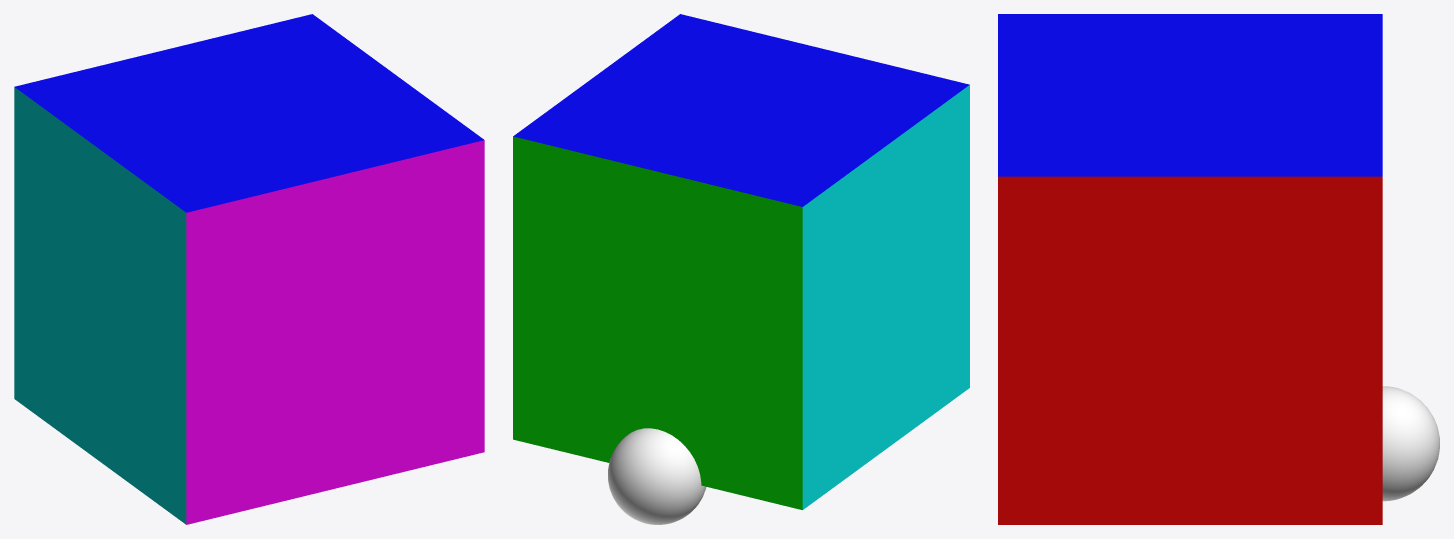
The model's file is CubePlus.dae.
3 renders of one model, left to right at view 1: azimuth 30°, elevation 25°; view 2: azimuth 150°, elevation 25°; view 3: azimuth 270°, elevation 25°, orthographic. The views are drawn at different scales.
Parts seen in each view (by area): view 1: 635f4a8fc82c114115f9b763 (×3); view 2: 635f4a8fc82c114115f9b763 (×4); view 3: 635f4a8fc82c114115f9b763 (×3).
Boxes of the visible parts, box(x1,y1,x2,y2) form: 635f4a8fc82c114115f9b763 (×3): box(14, 14, 484, 524); 635f4a8fc82c114115f9b763 (×4): box(513, 14, 969, 524); 635f4a8fc82c114115f9b763 (×3): box(998, 14, 1439, 524).
Size of the model in its own units: 0.1 by 0.1149 by 0.115.
